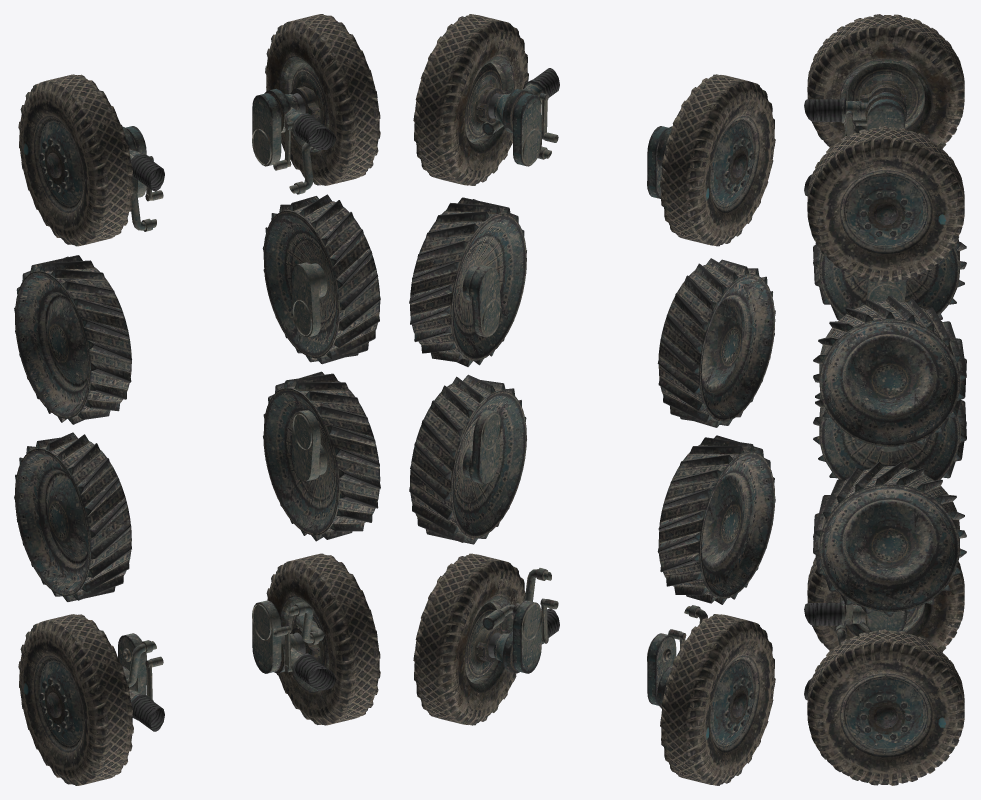
Rendered from Chassis.glb.
3 views of the same model, side by side, from view 1: azimuth 30°, elevation 25°; view 2: azimuth 150°, elevation 25°; view 3: azimuth 270°, elevation 25° (orthographic). The views are drawn at different scales.
Parts seen in each view (by area): view 1: set_1_group_0, set_0_group_0, set_0_group_1, set_1_group_1; view 2: set_1_group_0, set_0_group_0, set_0_group_1, set_1_group_1; view 3: set_1_group_0, set_1_group_1, set_0_group_0, set_0_group_1.
Part boxes in pixels (x1=…): set_1_group_0: x1=252, y1=56, x2=380, y2=691; set_0_group_0: x1=14, y1=116, x2=164, y2=751; set_0_group_1: x1=18, y1=74, x2=133, y2=785; set_1_group_1: x1=265, y1=14, x2=380, y2=725; set_1_group_0: x1=409, y1=56, x2=559, y2=691; set_0_group_0: x1=647, y1=116, x2=775, y2=751; set_0_group_1: x1=660, y1=74, x2=775, y2=785; set_1_group_1: x1=413, y1=14, x2=528, y2=725; set_1_group_0: x1=804, y1=170, x2=966, y2=756; set_1_group_1: x1=807, y1=126, x2=964, y2=785; set_0_group_0: x1=804, y1=59, x2=966, y2=636; set_0_group_1: x1=807, y1=14, x2=964, y2=651.
Bounding box in the file's own units: 2.43 × 5.49 × 1.25.
4 materials, 4 textured.
